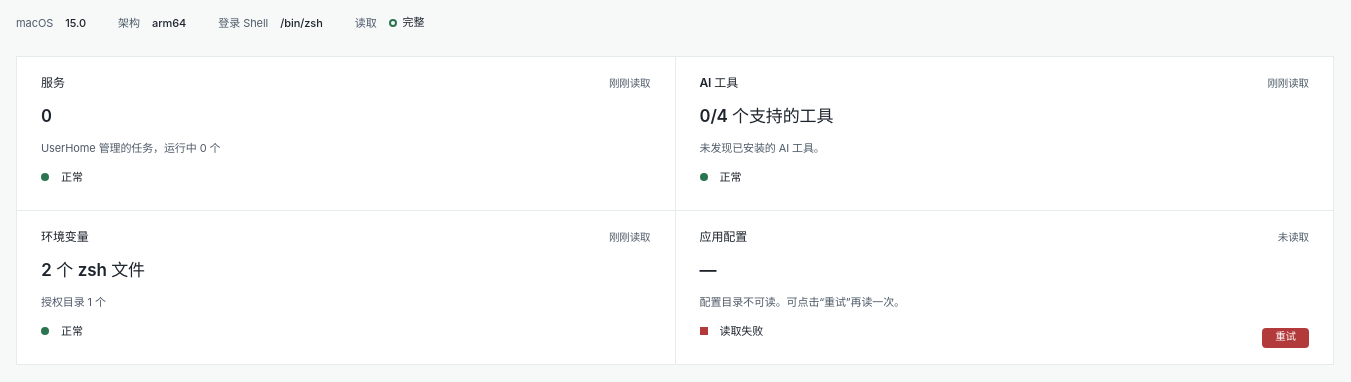
Scenario: DashboardPage fact ledger › shows a one-line reason and a retry when a read fails, and the retry reads again
The image size is (1351, 382).
Expected: the text "配置目录不可读。可点击“重试”再读一次。" is shown, [700, 294, 905, 308]
Step 1. Click the button "重试" → coordinates (1286, 338), box [1262, 328, 1309, 348]
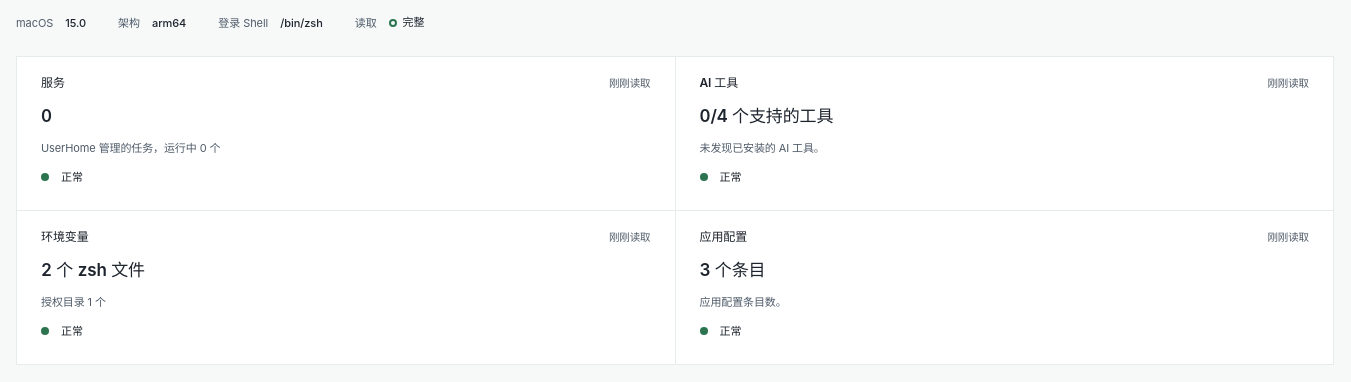
Expected: the text "应用配置条目数。" is shown, [700, 294, 787, 308]
